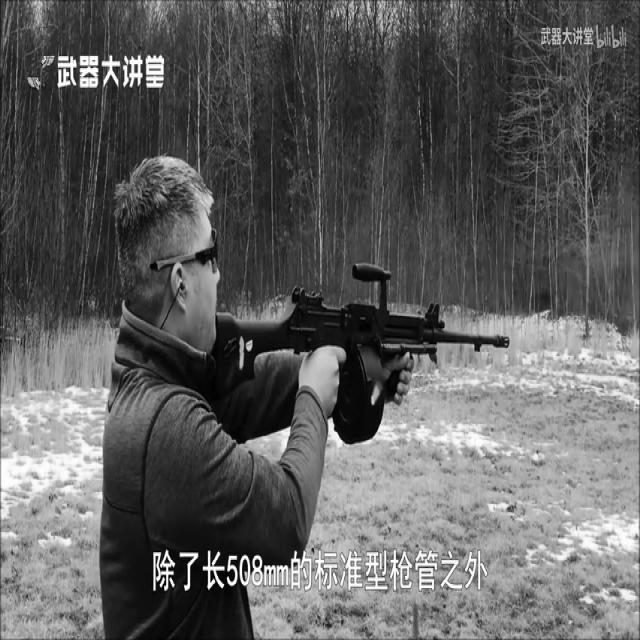Sniper: (157, 169, 542, 513)
